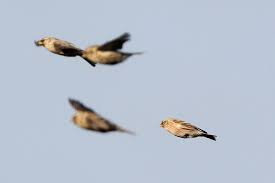hsparrow: (30, 36, 96, 86), (159, 115, 222, 143)
